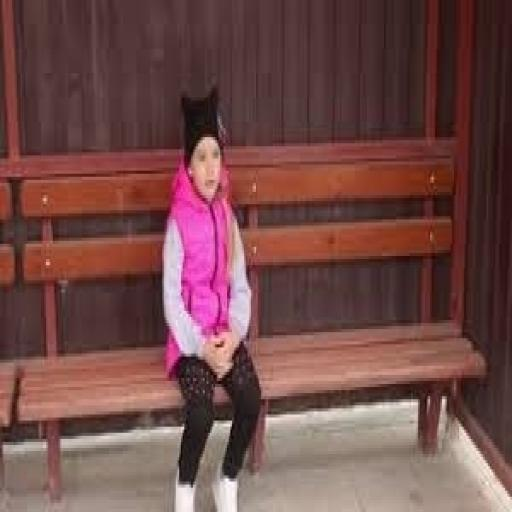sitting: (158, 82, 264, 509)
